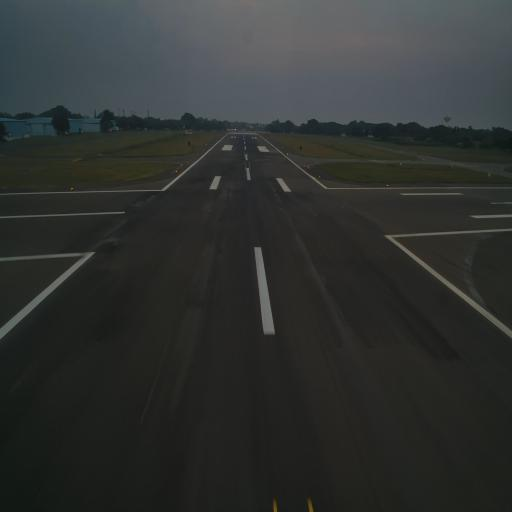on: (70, 184, 74, 192), (386, 182, 390, 190)
